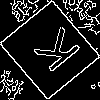K: (25, 25, 83, 81)
